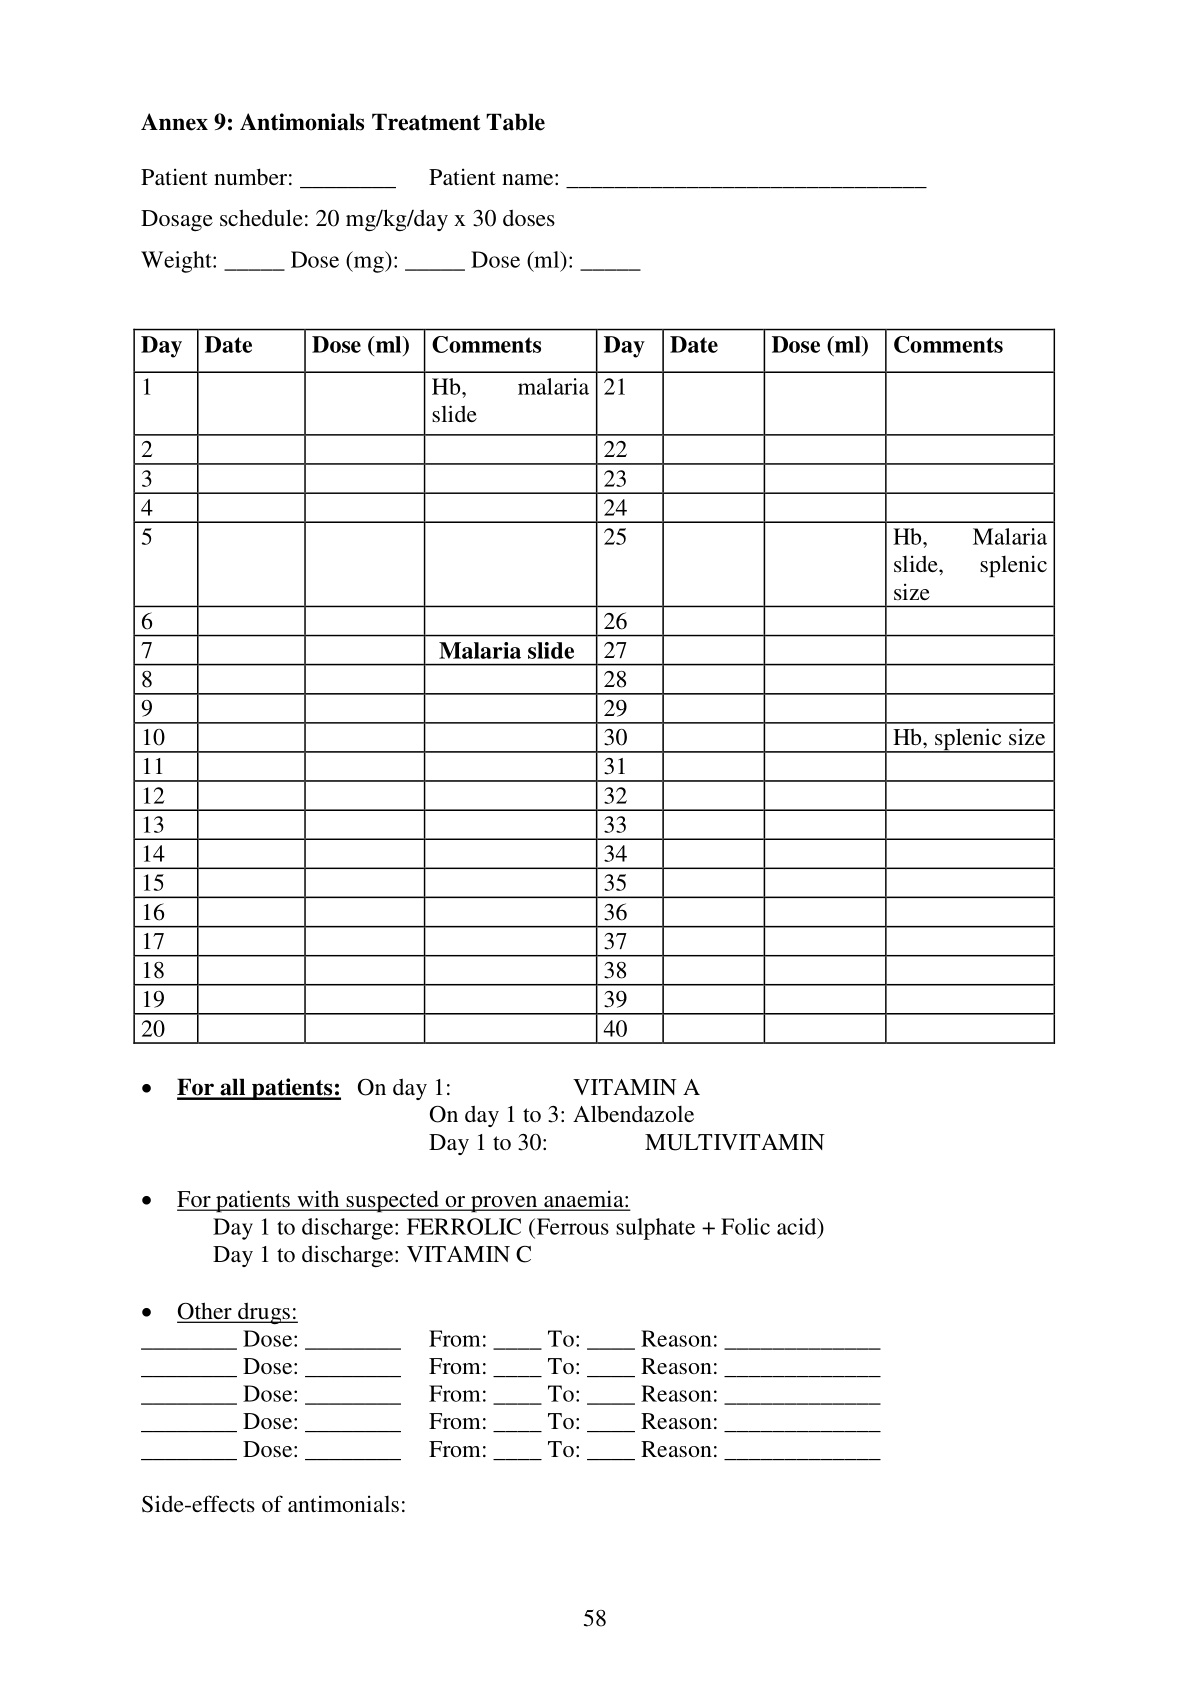full_lined: (131, 329, 1054, 1045)
